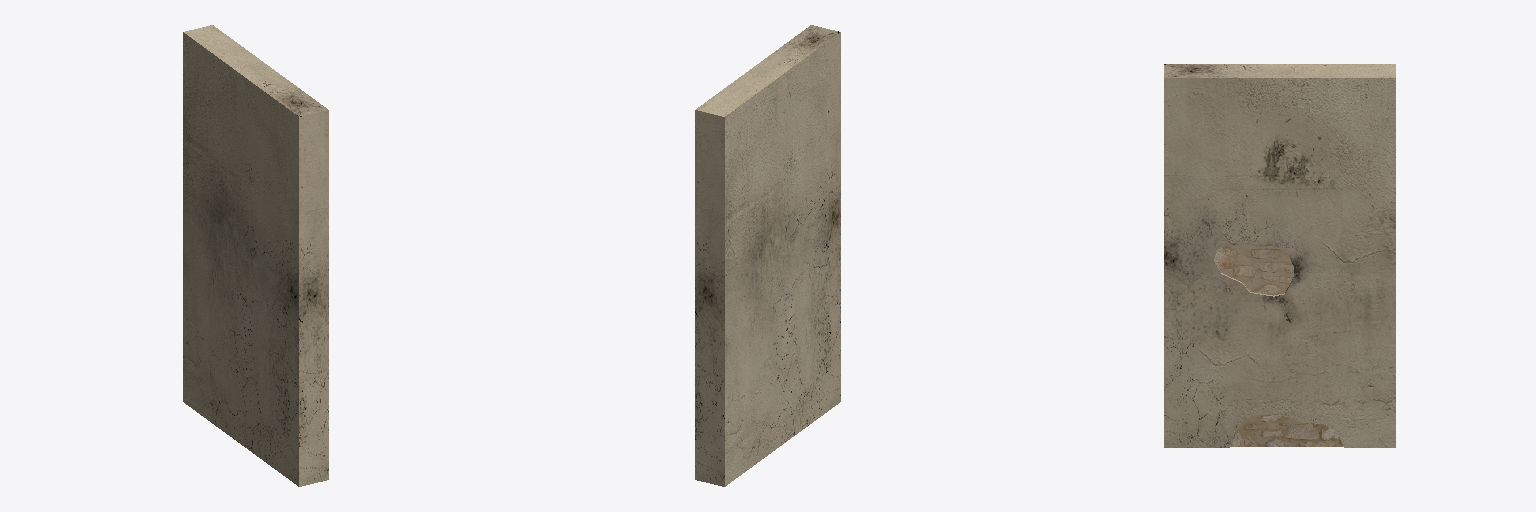
The picture shows the model from 3 angles: view 1: azimuth 30°, elevation 25°; view 2: azimuth 150°, elevation 25°; view 3: azimuth 270°, elevation 25°; orthographic projection.
Visible parts, largest first — view 1: Box01; view 2: Box01; view 3: Box01, Scratch1aa.
Boxes of the visible parts, x1,y1,x2,y2 form: Box01: [183, 25, 328, 486]; Box01: [695, 25, 840, 486]; Box01: [1164, 64, 1395, 447]; Scratch1aa: [1214, 245, 1342, 446].
Size of the model in its own units: 0.2924 by 3.51 by 2.
Materials: 2 (2 with a texture image).